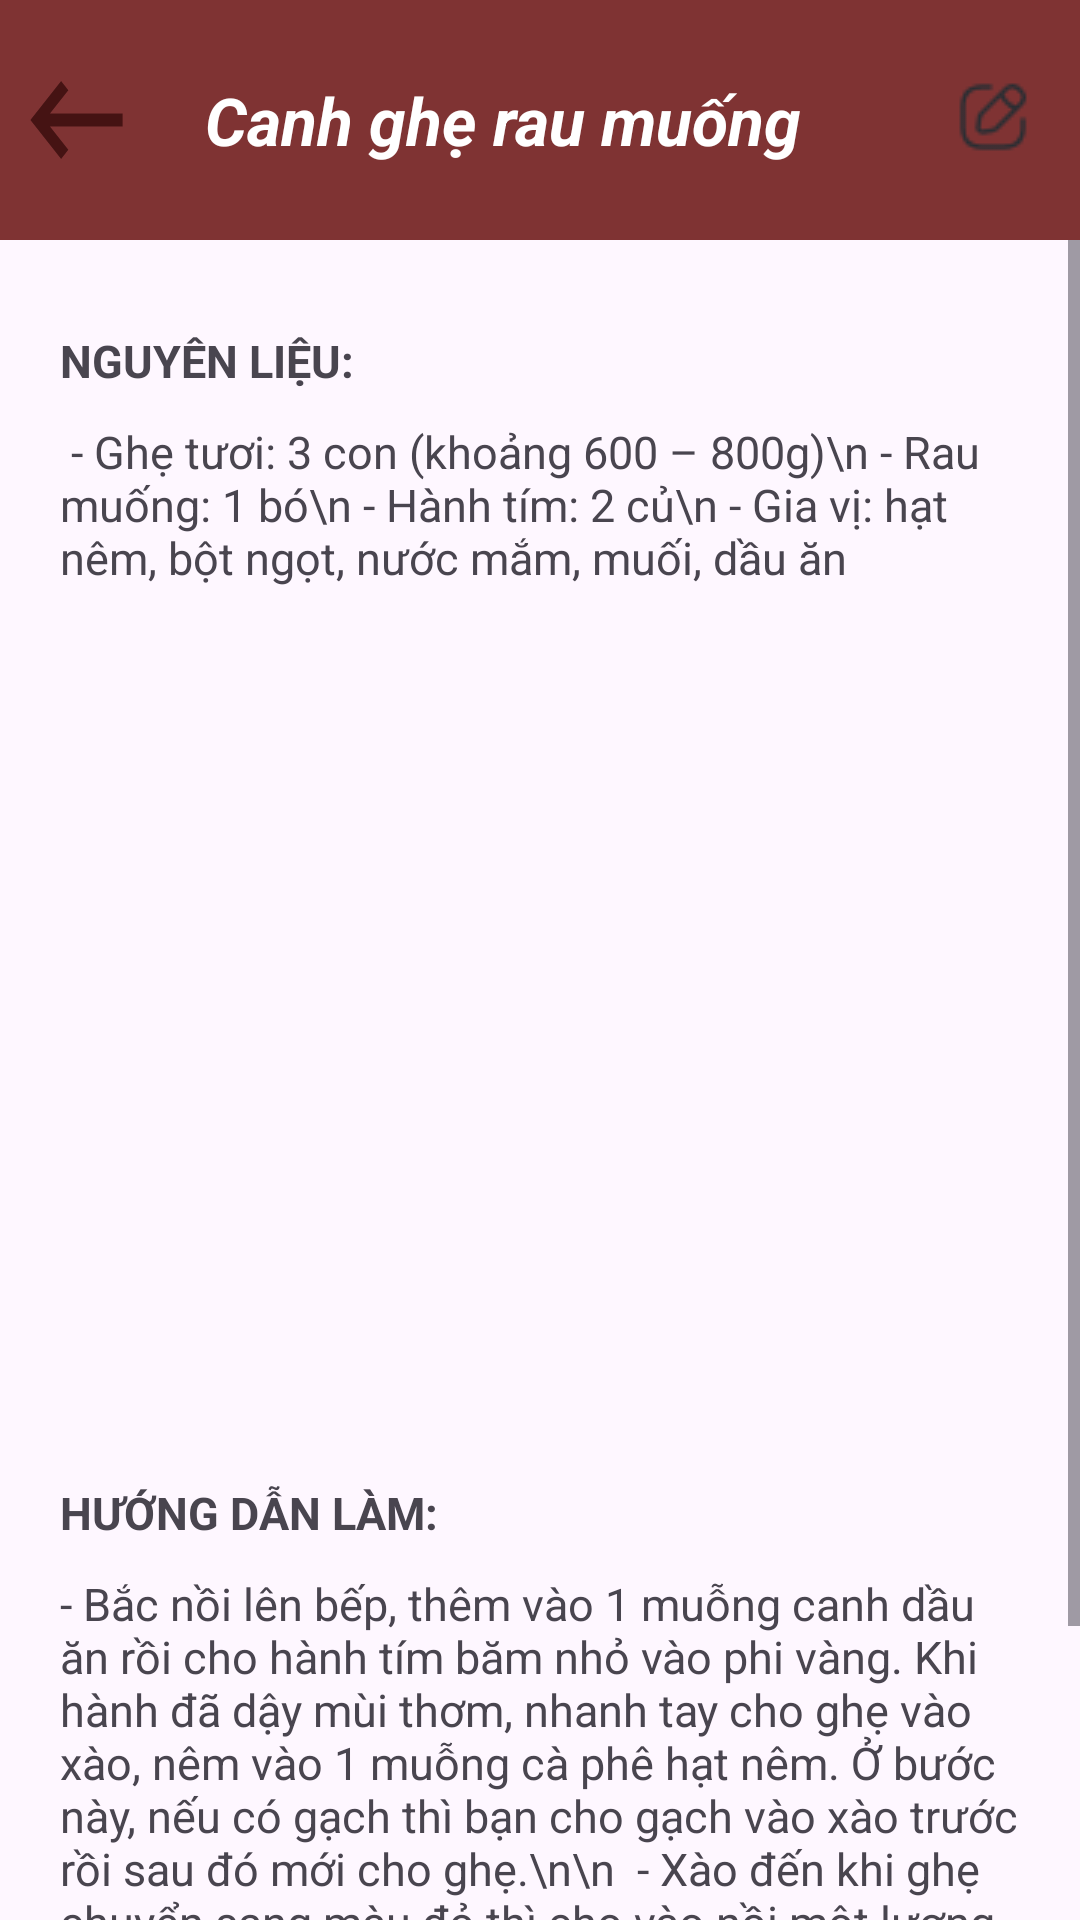

Screen size 1080px×1920px. Icon name, then its box in pixels as (x1, y1, x2, y2):
back: (31, 81, 123, 159)
note: (960, 83, 1027, 150)
